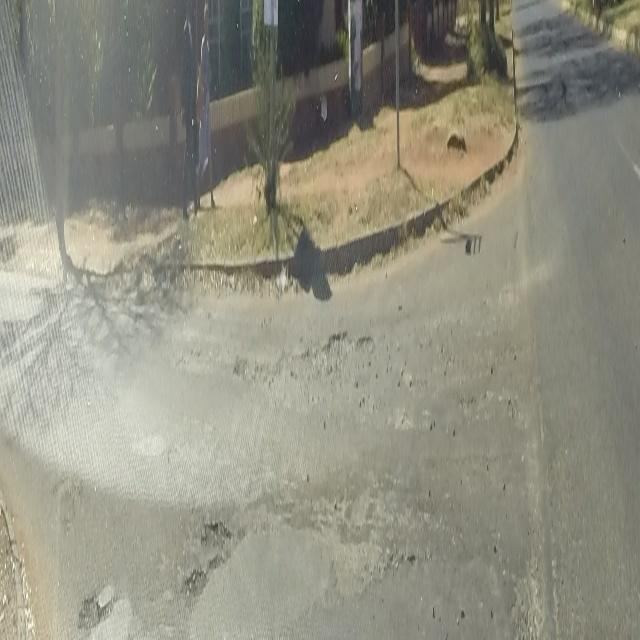pothole: (178, 558, 208, 602), (202, 511, 232, 546), (76, 592, 102, 624), (326, 326, 348, 351), (230, 353, 250, 377), (353, 330, 371, 346)
